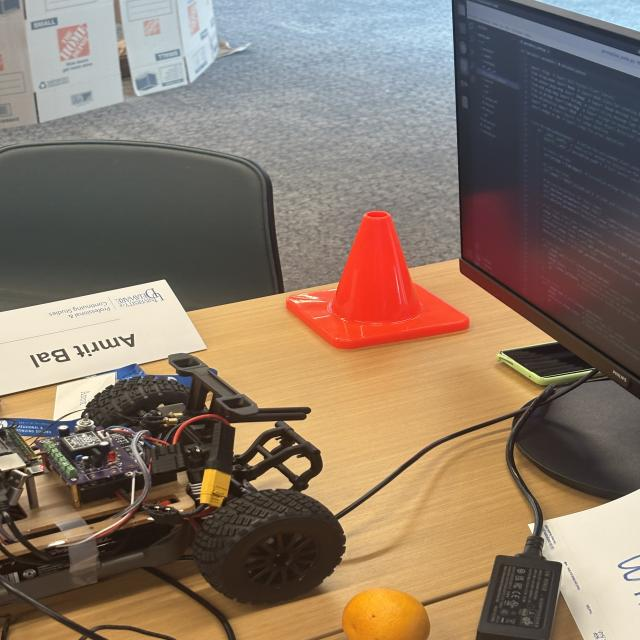Traffic Cone: (280, 199, 474, 358)
